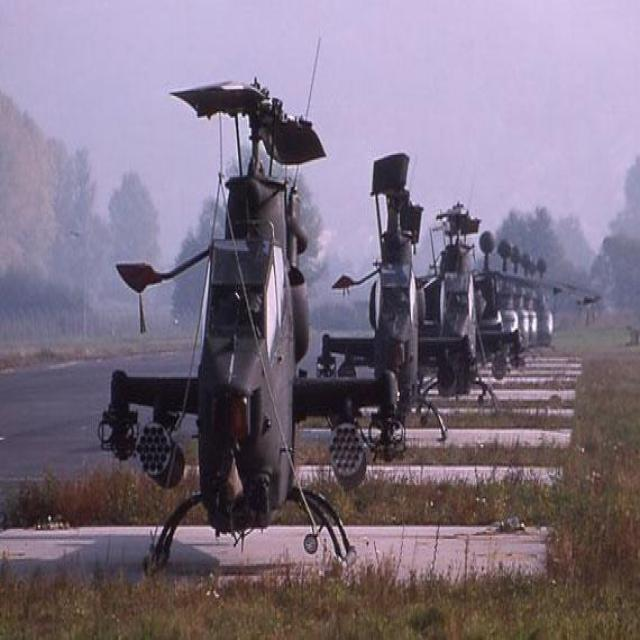MIL_HELO: (99, 63, 398, 580), (311, 153, 470, 453), (418, 186, 524, 401)
